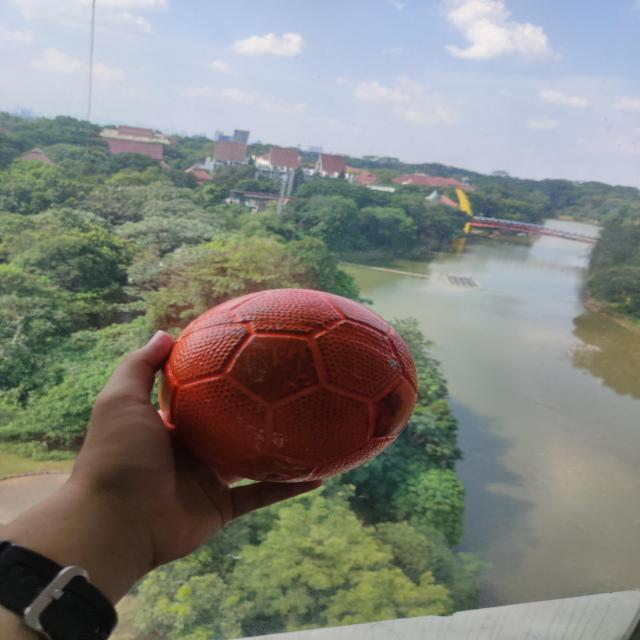bola: (154, 281, 424, 491)
